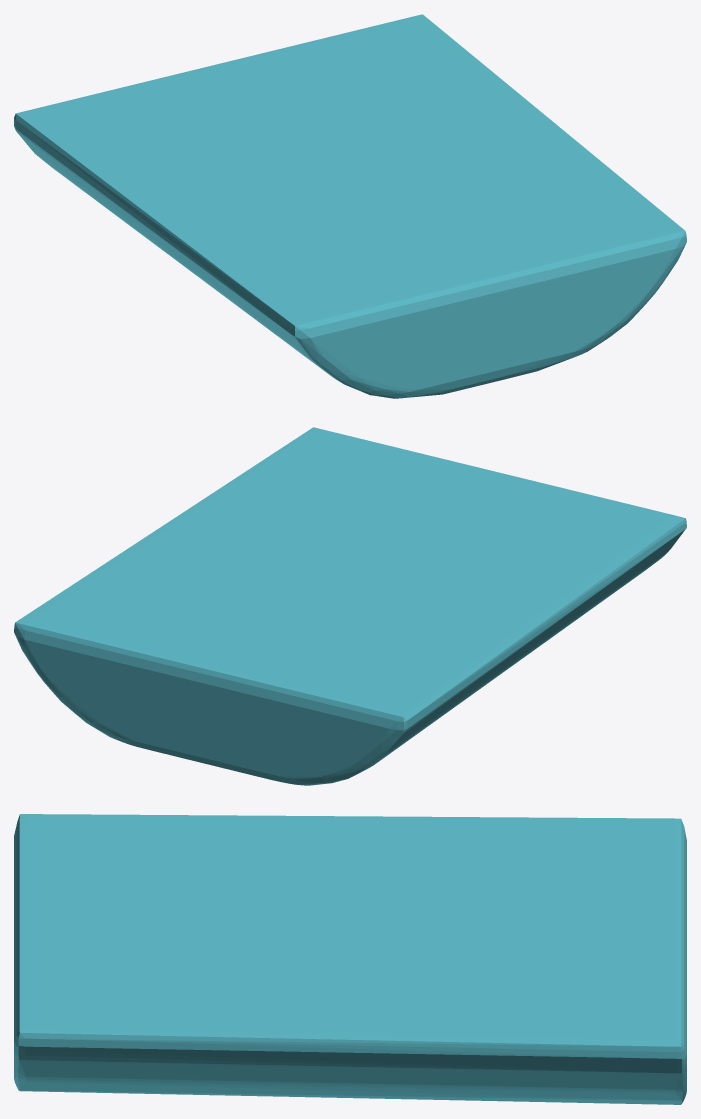
File: left_shoulder_yaw_link_part_2.obj
3 views of the same model, one above another, from view 1: azimuth 30°, elevation 25°; view 2: azimuth 150°, elevation 25°; view 3: azimuth 270°, elevation 25° (orthographic). The views are drawn at different scales.
Size of the model in its own units: 0.0515 by 0.0124 by 0.0627.
